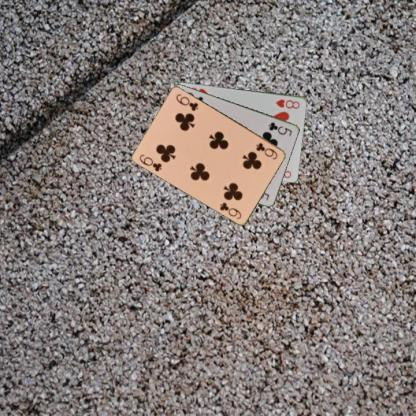5c: (266, 120, 294, 138)
6c: (136, 151, 164, 173), (254, 140, 280, 160)
8h: (273, 96, 301, 110)
